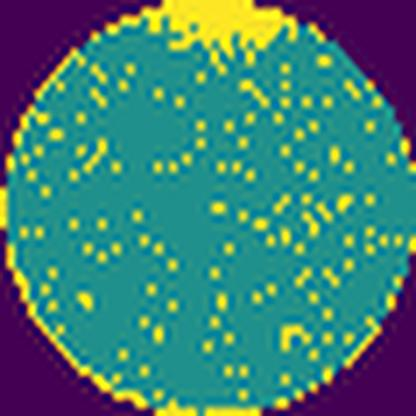Edge-Loc: (137, 0, 295, 60)
